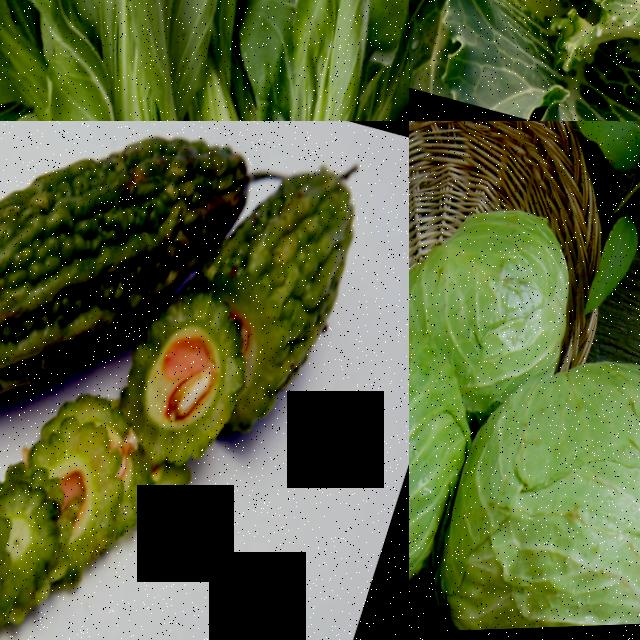bitter gourd: (216, 141, 393, 407), (0, 121, 153, 403)
bok choy: (0, 0, 319, 121), (220, 0, 409, 121)
cabbage: (438, 374, 640, 633), (409, 187, 611, 387), (443, 0, 640, 119), (409, 329, 485, 629)
